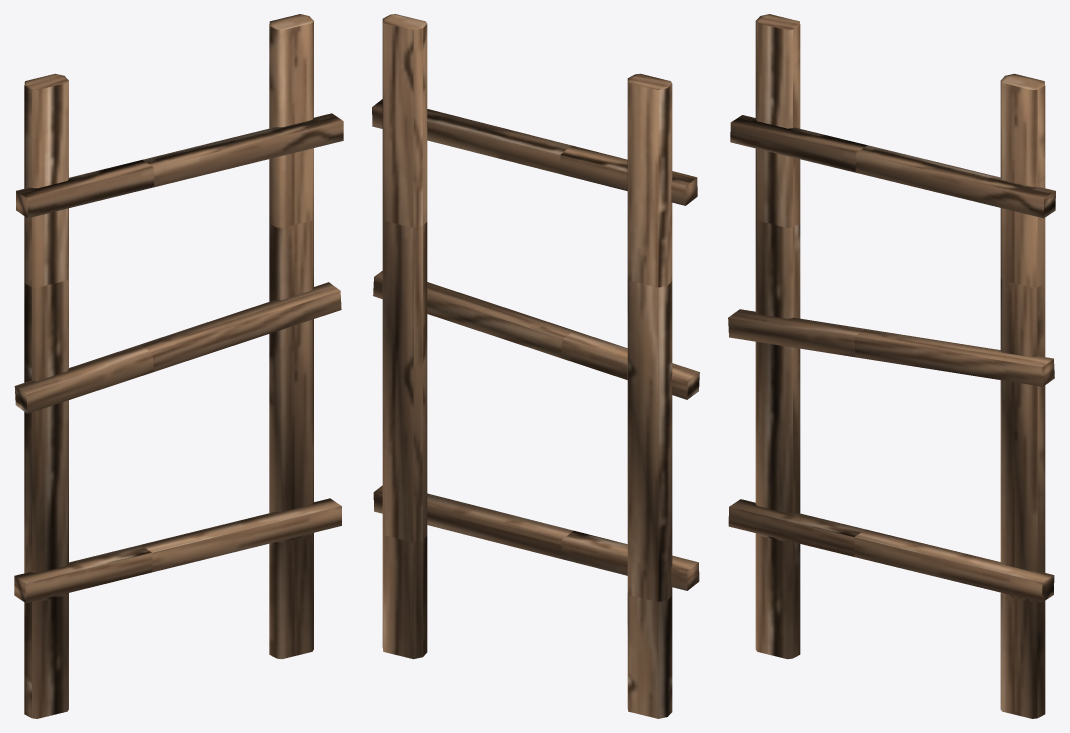
Rendered from LP_Ladder.glb.
The picture shows the model from 3 angles, left to right: view 1: azimuth 30°, elevation 25°; view 2: azimuth 150°, elevation 25°; view 3: azimuth 330°, elevation 25°; orthographic projection.
Visible parts, largest first — view 1: LadderBase; view 2: LadderBase; view 3: LadderBase.
Boxes of the visible parts, x1,y1,x2,y2 form: LadderBase: [14, 14, 343, 718]; LadderBase: [372, 14, 699, 718]; LadderBase: [728, 14, 1055, 718].
Size of the model in its own units: 0.4935 by 0.9363 by 0.0601.
Materials: 1 (1 with a texture image).
